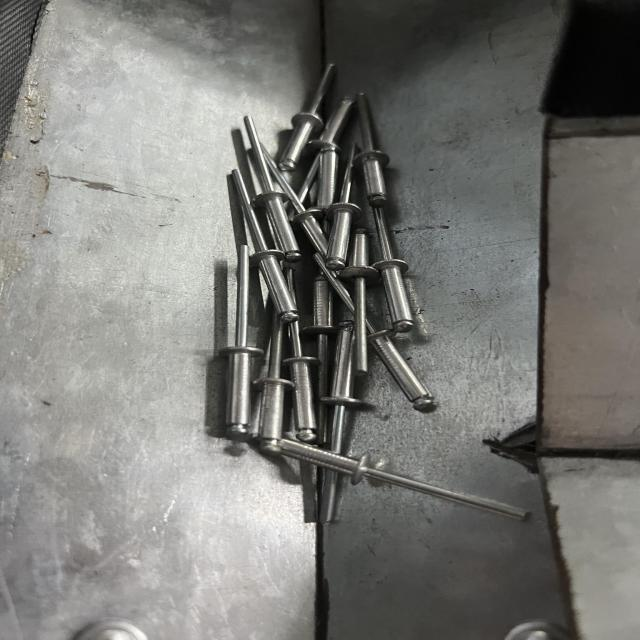rivet: (277, 439, 543, 521), (243, 115, 301, 264), (224, 242, 258, 442)
